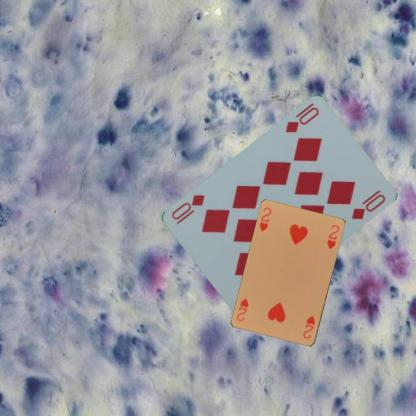10d: (283, 104, 320, 134)
2h: (257, 205, 273, 233), (300, 313, 316, 340)
